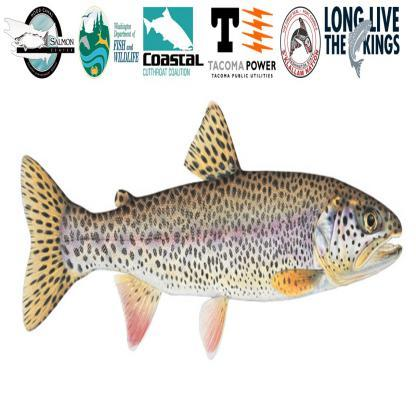fish: (18, 103, 404, 358)
